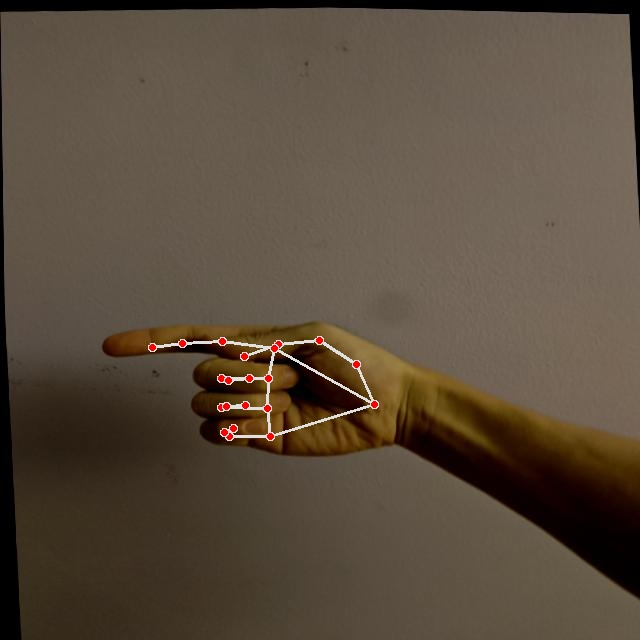G: (93, 308, 407, 469)
